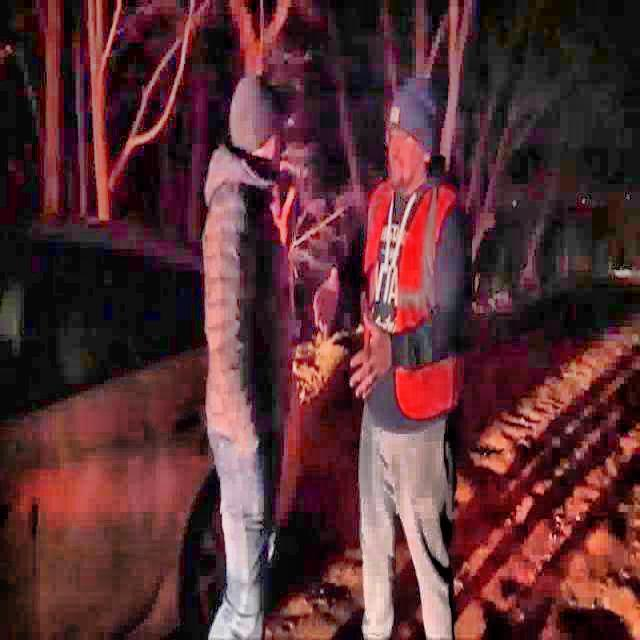safety_jacket: (364, 177, 454, 425)
